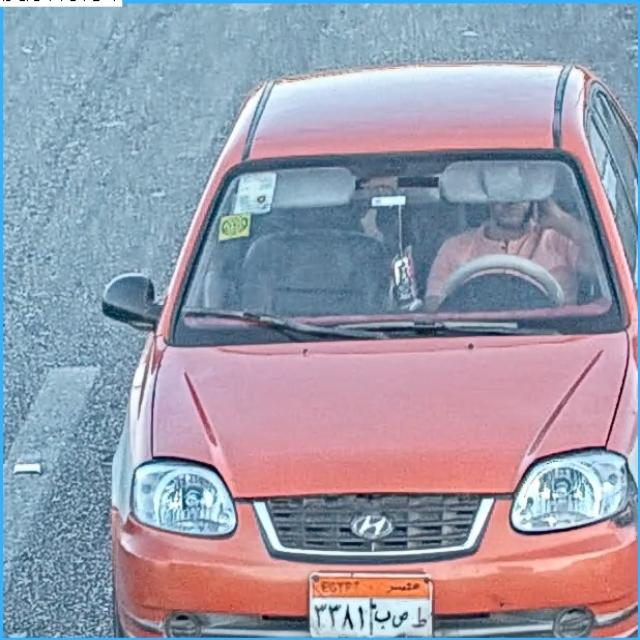windshield: (165, 164, 608, 320)
